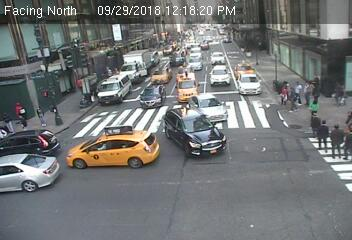car: (65, 127, 162, 168), (162, 107, 226, 162), (2, 152, 62, 194), (1, 129, 60, 160), (186, 90, 229, 123), (114, 50, 151, 81), (94, 74, 132, 104), (235, 70, 264, 95), (140, 82, 166, 109), (176, 72, 200, 101), (209, 63, 231, 88), (151, 64, 172, 84), (233, 61, 255, 79), (185, 52, 203, 72), (143, 45, 160, 66), (209, 50, 225, 65), (171, 51, 185, 64), (189, 41, 201, 53), (161, 46, 175, 54), (198, 38, 208, 49), (221, 33, 232, 43)
